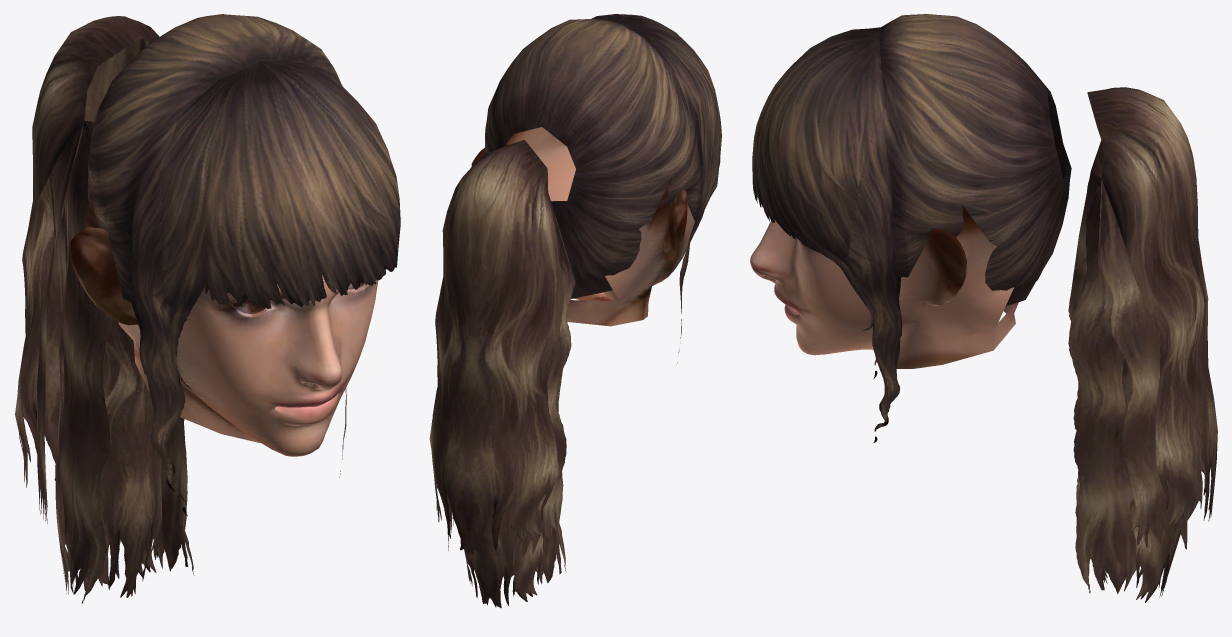
The model's file is head_f_3.fbx.
The picture shows the model from 3 angles, left to right: view 1: azimuth 30°, elevation 25°; view 2: azimuth 150°, elevation 25°; view 3: azimuth 270°, elevation 25°; orthographic projection. The views are drawn at different scales.
Visible parts, largest first — view 1: polySurface1, pc_set_fgt_head_f:D_Object_1_p_1; view 2: polySurface1, pc_set_fgt_head_f:D_Object_1_p_1; view 3: polySurface1, pc_set_fgt_head_f:D_Object_1_p_1.
Boxes of the visible parts, x1,y1,x2,y2 form: polySurface1: [15, 14, 400, 603]; pc_set_fgt_head_f:D_Object_1_p_1: [70, 192, 378, 456]; polySurface1: [429, 14, 721, 607]; pc_set_fgt_head_f:D_Object_1_p_1: [471, 127, 694, 326]; polySurface1: [752, 14, 1217, 602]; pc_set_fgt_head_f:D_Object_1_p_1: [750, 205, 1018, 368].
Size of the model in its own units: 15.59 by 36 by 25.97.
2 materials, 2 textured.
